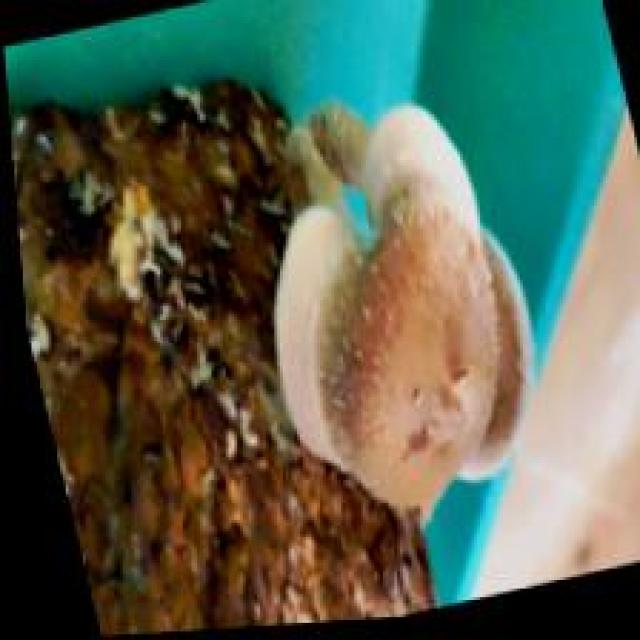field-mushroom: (268, 100, 532, 523)
